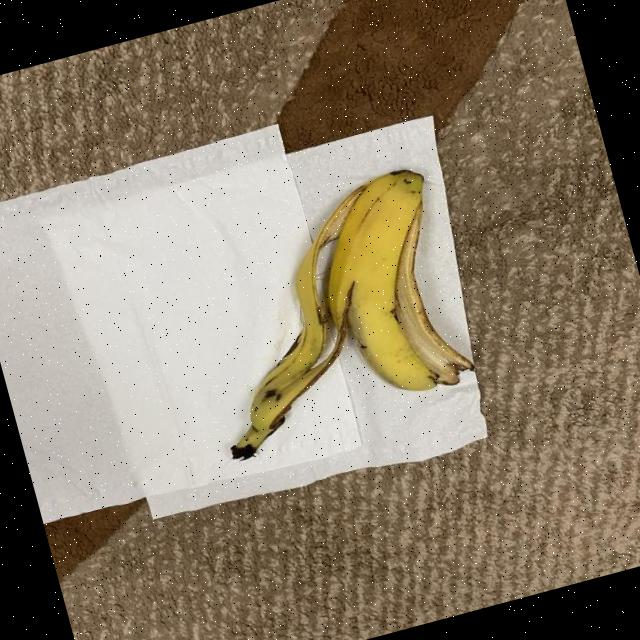banana-peel: (169, 162, 483, 462)
